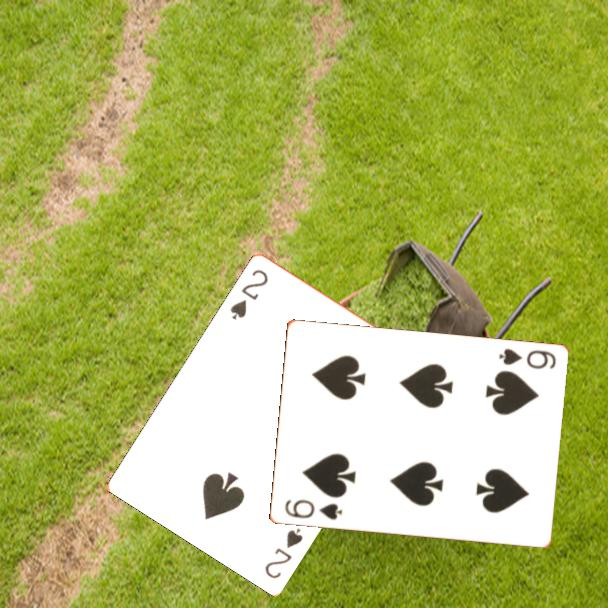s02: (226, 265, 271, 322), (261, 524, 306, 581)
s06: (281, 496, 345, 523), (495, 345, 559, 372)
